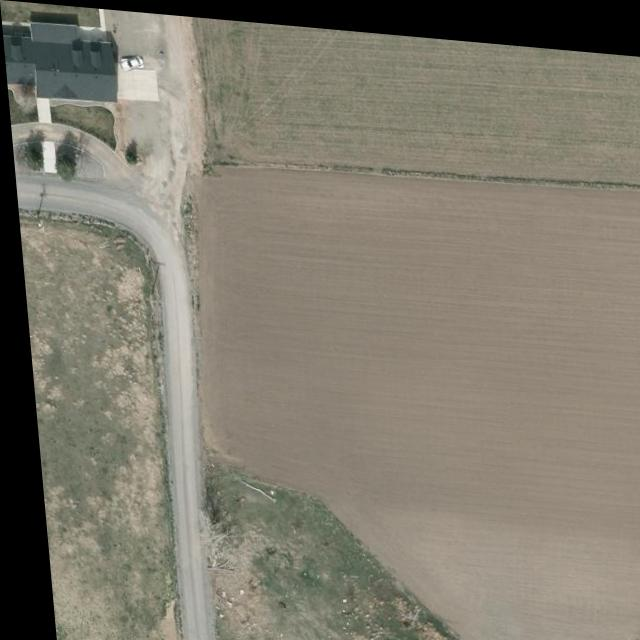vehicle: (118, 53, 144, 70)
